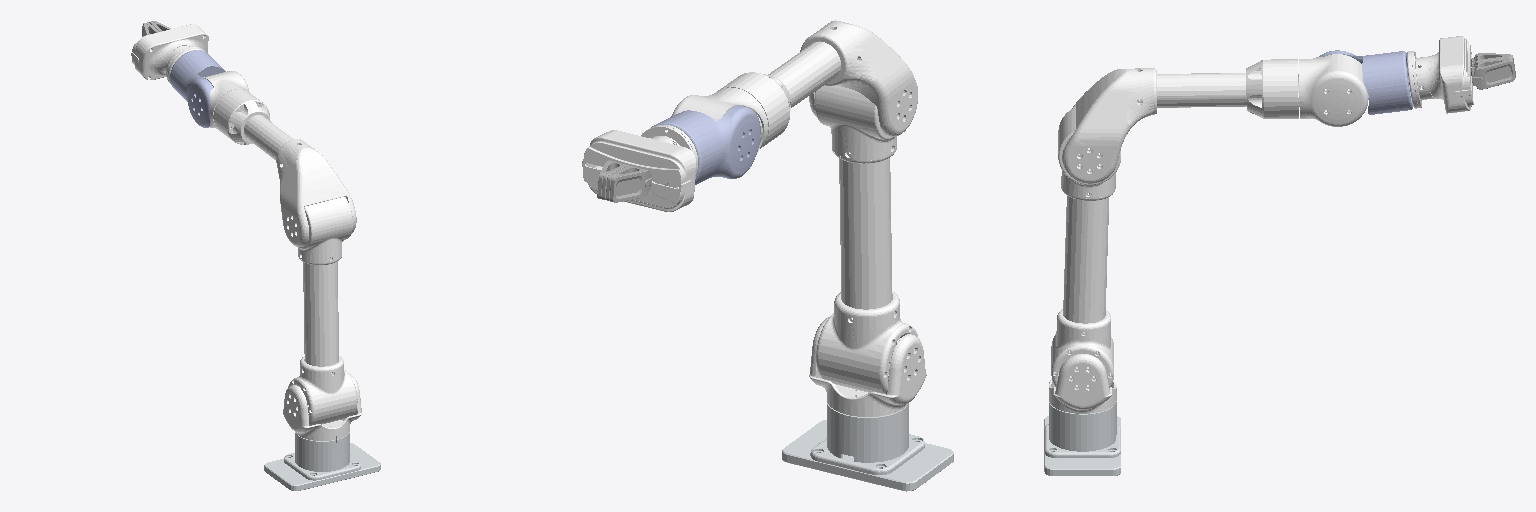
robot.urdf — dm_arm:
<?xml version="1.0" encoding="utf-8"?>
<!-- This URDF was automatically created by SolidWorks to URDF Exporter! Originally created by
Stephen Brawner (brawner@gmail.com) 
     Commit Version: 1.6.0-4-g7f85cfe  Build Version: 1.6.7995.38578
     For more information, please see http://wiki.ros.org/sw_urdf_exporter -->
<robot name="dm_arm">

  <!-- KDL解析器不支持根链接（base_link）定义惯性参数 -->
  <link name="dummy"/>
  <joint name="dummy_joint" type="fixed">
    <parent link="dummy"/>
    <child link="base_link"/>
  </joint>

  <link
    name="base_link">
    <inertial>
      <origin
        xyz="5.435E-09 -2.5573E-05 0.011184"
        rpy="0 0 0" />
      <mass
        value="0.20354" />
      <inertia
        ixx="0.00014204"
        ixy="-7.2421E-15"
        ixz="-2.8814E-12"
        iyy="0.0003005"
        iyz="-1.4493E-07"
        izz="0.00042977" />
    </inertial>
    <visual>
      <origin
        xyz="0 0 0"
        rpy="0 0 0" />
      <geometry>
        <mesh
          filename="package://dmarm_description/meshes/base_link.STL" />
      </geometry>
      <material
        name="">
        <color
          rgba="0.89804 0.91765 0.92941 1" />
      </material>
    </visual>
    <collision>
      <origin
        xyz="0 0 0"
        rpy="0 0 0" />
      <geometry>
        <mesh
          filename="package://dmarm_description/meshes/base_link.STL" />
      </geometry>
    </collision>
  </link>
  <link
    name="link1">
    <inertial>
      <origin
        xyz="-3.1576E-07 0.00021339 0.021742"
        rpy="0 0 0" />
      <mass
        value="0.066553" />
      <inertia
        ixx="6.2814E-05"
        ixy="5.7972E-10"
        ixz="-1.3395E-10"
        iyy="0.00012476"
        iyz="3.1183E-07"
        izz="0.00011907" />
    </inertial>
    <visual>
      <origin
        xyz="0 0 0"
        rpy="0 0 0" />
      <geometry>
        <mesh
          filename="package://dmarm_description/meshes/link1.STL" />
      </geometry>
      <material
        name="">
        <color
          rgba="1 1 1 1" />
      </material>
    </visual>
    <collision>
      <origin
        xyz="0 0 0"
        rpy="0 0 0" />
      <geometry>
        <mesh
          filename="package://dmarm_description/meshes/link1.STL" />
      </geometry>
    </collision>
  </link>

  <link
    name="link2">
    <inertial>
      <origin
        xyz="1.3371E-07 0.13353 -0.0032401"
        rpy="0 0 0" />
      <mass
        value="0.1668" />
      <inertia
        ixx="0.000263"
        ixy="7.2732E-10"
        ixz="-3.218E-09"
        iyy="0.00015005"
        iyz="2.0548E-07"
        izz="0.00028587" />
    </inertial>
    <visual>
      <origin
        xyz="0 0 0"
        rpy="0 0 0" />
      <geometry>
        <mesh
          filename="package://dmarm_description/meshes/link2.STL" />
      </geometry>
      <material
        name="">
        <color
          rgba="1 1 1 1" />
      </material>
    </visual>
    <collision>
      <origin
        xyz="0 0 0"
        rpy="0 0 0" />
      <geometry>
        <mesh
          filename="package://dmarm_description/meshes/link2.STL" />
      </geometry>
    </collision>
  </link>
  
  <link
    name="link3">
    <inertial>
      <origin
        xyz="0.052775 -0.097073 1.1891E-07"
        rpy="0 0 0" />
      <mass
        value="0.12357" />
      <inertia
        ixx="0.00019174"
        ixy="4.0169E-05"
        ixz="-5.7781E-10"
        iyy="0.00018457"
        iyz="5.1745E-10"
        izz="0.00019738" />
    </inertial>
    <visual>
      <origin
        xyz="0 0 0"
        rpy="0 0 0" />
      <geometry>
        <mesh
          filename="package://dmarm_description/meshes/link3.STL" />
      </geometry>
      <material
        name="">
        <color
          rgba="1 1 1 1" />
      </material>
    </visual>
    <collision>
      <origin
        xyz="0 0 0"
        rpy="0 0 0" />
      <geometry>
        <mesh
          filename="package://dmarm_description/meshes/link3.STL" />
      </geometry>
    </collision>
  </link>
  
  <link
    name="link4">
    <inertial>
      <origin
        xyz="0.011343 -0.0002325 0.029067"
        rpy="0 0 0" />
      <mass
        value="0.042568" />
      <inertia
        ixx="5.2594E-05"
        ixy="2.1485E-07"
        ixz="-5.733E-06"
        iyy="4.7313E-05"
        iyz="4.3925E-07"
        izz="4.0513E-05" />
    </inertial>
    <visual>
      <origin
        xyz="0 0 0"
        rpy="0 0 0" />
      <geometry>
        <mesh
          filename="package://dmarm_description/meshes/link4.STL" />
      </geometry>
      <material
        name="">
        <color
          rgba="1 1 1 1" />
      </material>
    </visual>
    <collision>
      <origin
        xyz="0 0 0"
        rpy="0 0 0" />
      <geometry>
        <mesh
          filename="package://dmarm_description/meshes/link4.STL" />
      </geometry>
    </collision>
  </link>
  
  <link
    name="link5">
    <inertial>
      <origin
        xyz="0.026138 1.4677E-06 0.015024"
        rpy="0 0 0" />
      <mass
        value="0.035453" />
      <inertia
        ixx="3.1885E-05"
        ixy="3.2859E-10"
        ixz="1.4593E-05"
        iyy="5.3381E-05"
        iyz="2.865E-09"
        izz="5.0636E-05" />
    </inertial>
    <visual>
      <origin
        xyz="0 0 0"
        rpy="0 0 0" />
      <geometry>
        <mesh
          filename="package://dmarm_description/meshes/link5.STL" />
      </geometry>
      <material
        name="">
        <color
          rgba="0.79216 0.81961 0.93333 1" />
      </material>
    </visual>
    <collision>
      <origin
        xyz="0 0 0"
        rpy="0 0 0" />
      <geometry>
        <mesh
          filename="package://dmarm_description/meshes/link5.STL" />
      </geometry>
    </collision>
  </link>
 
  <link
    name="link6">
    <inertial>
      <origin
        xyz="0.00014216 -0.00015933 0.031727"
        rpy="0 0 0" />
      <mass
        value="0.10144" />
      <inertia
        ixx="8.48E-05"
        ixy="3.7677E-07"
        ixz="9.0707E-09"
        iyy="3.7579E-05"
        iyz="7.5024E-08"
        izz="0.00011272" />
    </inertial>
    <visual>
      <origin
        xyz="0 0 0"
        rpy="0 0 0" />
      <geometry>
        <mesh
          filename="package://dmarm_description/meshes/link6.STL" />
      </geometry>
      <material
        name="">
        <color
          rgba="1 1 1 1" />
      </material>
    </visual>
    <collision>
      <origin
        xyz="0 0 0"
        rpy="0 0 0" />
      <geometry>
        <mesh
          filename="package://dmarm_description/meshes/link6.STL" />
      </geometry>
    </collision>
  </link>
  
  <link
    name="link7_1">
    <inertial>
      <origin
        xyz="-0.05226 -0.0016298 -0.21284"
        rpy="0 0 0" />
      <mass
        value="1.595" />
      <inertia
        ixx="0.025606"
        ixy="-7.1837E-05"
        ixz="1.2667E-05"
        iyy="0.031715"
        iyz="-1.7744E-05"
        izz="0.0079338" />
    </inertial>
    <visual>
      <origin
        xyz="0 0 0"
        rpy="0 0 0" />
      <geometry>
        <mesh
          filename="package://dmarm_description/meshes/link7_1.STL" />
      </geometry>
      <material
        name="">
        <color
          rgba="0.75294 0.75294 0.75294 1" />
      </material>
    </visual>
    <collision>
      <origin
        xyz="0 0 0"
        rpy="0 0 0" />
      <geometry>
        <mesh
          filename="package://dmarm_description/meshes/link7_1.STL" />
      </geometry>
    </collision>
  </link>
  
  <link
    name="link7_2">
    <inertial>
      <origin
        xyz="-0.05226 0.00037021 -0.21284"
        rpy="0 0 0" />
      <mass
        value="1.595" />
      <inertia
        ixx="0.025606"
        ixy="-7.1837E-05"
        ixz="1.2667E-05"
        iyy="0.031715"
        iyz="-1.7744E-05"
        izz="0.0079338" />
    </inertial>
    <visual>
      <origin
        xyz="0 0 0"
        rpy="0 0 0" />
      <geometry>
        <mesh
          filename="package://dmarm_description/meshes/link7_2.STL" />
      </geometry>
      <material
        name="">
        <color
          rgba="0.75294 0.75294 0.75294 1" />
      </material>
    </visual>
    <collision>
      <origin
        xyz="0 0 0"
        rpy="0 0 0" />
      <geometry>
        <mesh
          filename="package://dmarm_description/meshes/link7_2.STL" />
      </geometry>
    </collision>
  </link>



  <!-- *************************** 关节集合 *************************-->
  <joint name="joint1" type="revolute">
    <origin xyz="0 0 0.06925" rpy="0 0 0" />
    <parent link="base_link" />
    <child link="link1" />
    <axis xyz="0 0 1" />
    <limit lower="-3.14" upper="3.14" effort="0" velocity="1" />
  </joint>

  <joint name="joint2" type="revolute">
    <origin xyz="0 0 0.04575" rpy="3.1416 -1.5708 0" />
    <parent link="link1" />
    <child link="link2" />
    <axis xyz="0 0 -1" />
    <limit lower="0.1" upper="3.1" effort="0" velocity="1" />
  </joint>

  <joint name="joint3" type="revolute">
    <origin xyz="0 0.28 0" rpy="0 0 0" />
    <parent link="link2" />
    <child link="link3" />
    <axis xyz="0 0 -1" />
    <limit lower="-3.1" upper="-0.1" effort="0" velocity="1" />
  </joint>

  <joint name="joint4" type="revolute">
    <origin xyz="0.072175 -0.25184 0" rpy="1.5708 -1.5708 0" />
    <parent link="link3" />
    <child link="link4" />
    <axis xyz="0 -0.01654 0.99986" />
    <limit lower="-3.14" upper="3.14" effort="0" velocity="1" />
  </joint>

   <joint name="joint5" type="revolute">
    <origin xyz="0.002 -0.00064506 0.038995" rpy="1.5708 -1.4363 -1.5708" />
    <parent link="link4" />
    <child link="link5" />
    <axis xyz="0 0 1" />
    <limit lower="-1.1" upper="1.3" effort="0" velocity="1" />
  </joint>

  <joint name="joint6" type="revolute">
    <origin xyz="0.086 0 0" rpy="-1.5708 0 -1.5708" />
    <parent link="link5" />
    <child link="link6" />
    <axis xyz="0 0 1" />
    <limit lower="-3.14" upper="3.14" effort="0" velocity="1" />
  </joint>

  <!-- 添加末端位置 -->
  <link name="link_hand"/>
  <joint name="joint_hand" type="fixed">
    <origin xyz="0 0 0.10"/>
    <parent link="link6" />
    <child link="link_hand" />
  </joint>

  <joint name="joint7" type="prismatic">
    <!-- 0.1-0.072482=0.027518 -->
    <origin xyz="1.5501E-05 0.0010151 -0.027518" rpy="0 0 -0.0036826" /> 
    <parent link="link_hand" />
    <child link="link7_1" />
    <axis xyz="0 1 0" />
    <limit lower="0" upper="0.03" effort="0" velocity="1" />
  </joint>

  <joint name="joint7_2" type="prismatic">
    <origin xyz="0 -0.00098485 -0.027518" rpy="0 0 -0.0036826" />
    <parent link="link_hand" />
    <child link="link7_2" />
    <axis xyz="0 -1 0" />
    <limit lower="0" upper="0.03" effort="0" velocity="1" />
    <!-- <limit lower="-0.03" upper="0" effort="0" velocity="1" /> -->
    <mimic joint="joint7" />
  </joint>
</robot>

--- Facts derived from the render (not from the file) ---
Views: 3 orthographic renders of the robot side by side, from view 1: azimuth 30°, elevation 25°; view 2: azimuth 150°, elevation 25°; view 3: azimuth 270°, elevation 25°.
Robot: dm_arm — 11 links, 10 joints (6 revolute, 2 prismatic, 2 fixed); root link dummy; default pose: all joints at 0 but 2 set to mid-range because 0 is outside their limits (joint2 = 1.6, joint3 = -1.6).
Links seen in each view (by area): view 1: link2, link3, base_link, link6, link5, link1, link4; view 2: link2, link3, base_link, link6, link5, link1, link4, link7_2; view 3: link3, link2, base_link, link4, link6, link1, link5, link7_1.
Link boxes in pixels (left/top/right/bottom): link2: left=288, top=197, right=357, bottom=425; link3: left=213, top=89, right=356, bottom=246; base_link: left=264, top=432, right=380, bottom=490; link6: left=131, top=24, right=208, bottom=83; link5: left=170, top=50, right=225, bottom=127; link1: left=283, top=374, right=361, bottom=440; link4: left=203, top=71, right=249, bottom=128; link2: left=814, top=85, right=917, bottom=394; link3: left=718, top=20, right=917, bottom=148; base_link: left=782, top=403, right=953, bottom=491; link6: left=582, top=125, right=697, bottom=211; link5: left=651, top=105, right=759, bottom=184; link1: left=809, top=317, right=926, bottom=416; link4: left=671, top=87, right=768, bottom=152; link7_2: left=606, top=165, right=652, bottom=202; link3: left=1062, top=59, right=1298, bottom=183; link2: left=1051, top=107, right=1120, bottom=387; base_link: left=1044, top=401, right=1120, bottom=475; link4: left=1299, top=54, right=1367, bottom=126; link6: left=1407, top=36, right=1473, bottom=113; link1: left=1049, top=354, right=1116, bottom=413; link5: left=1319, top=50, right=1412, bottom=114; link7_1: left=1471, top=58, right=1515, bottom=89.
Bounding box of the posed robot: 0.15 × 0.5525 × 0.518 m (x, y, z).
9 mesh visuals loaded from 9 distinct referenced files (9 binary STL).
